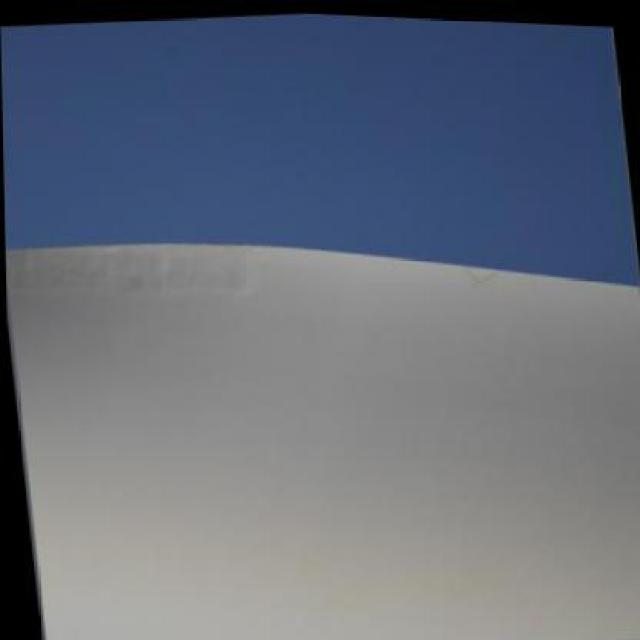Crack: (452, 256, 506, 286)
